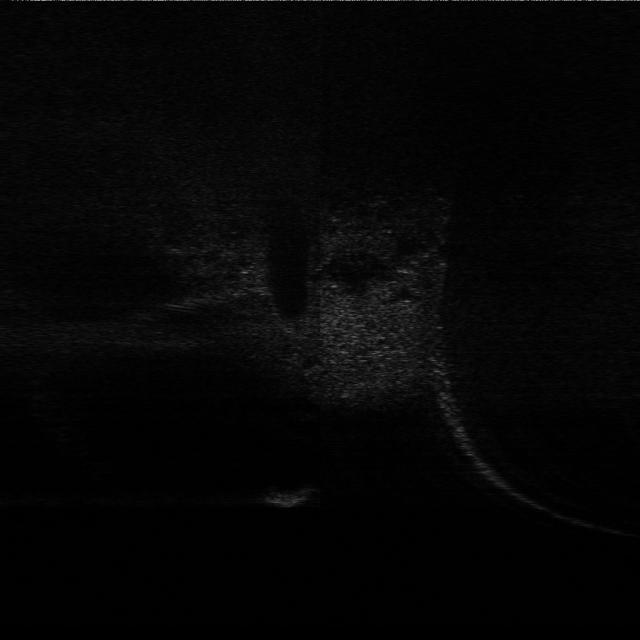square cage: (262, 472, 321, 511)
